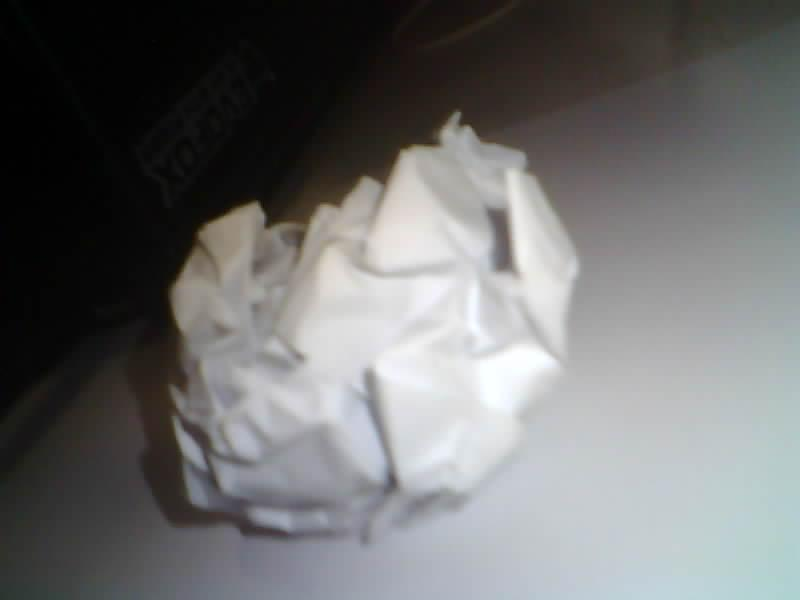biodegradable: (170, 114, 577, 538)
